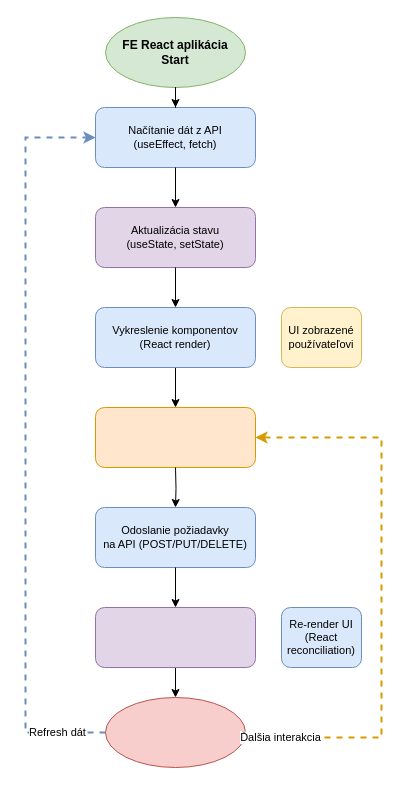
The diagram is 407 pixels wide and 785 high, and some of its shapes have lost their labels. Here are the shapes that lost their labels. From the top down, the box of each, then its label:
(94, 406, 256, 468): Interakcia používateľa (onClick, onChange, ...)
(94, 606, 256, 668): Aktualizácia stavu s novými dátami
(104, 696, 246, 768): Aktualizované UI
